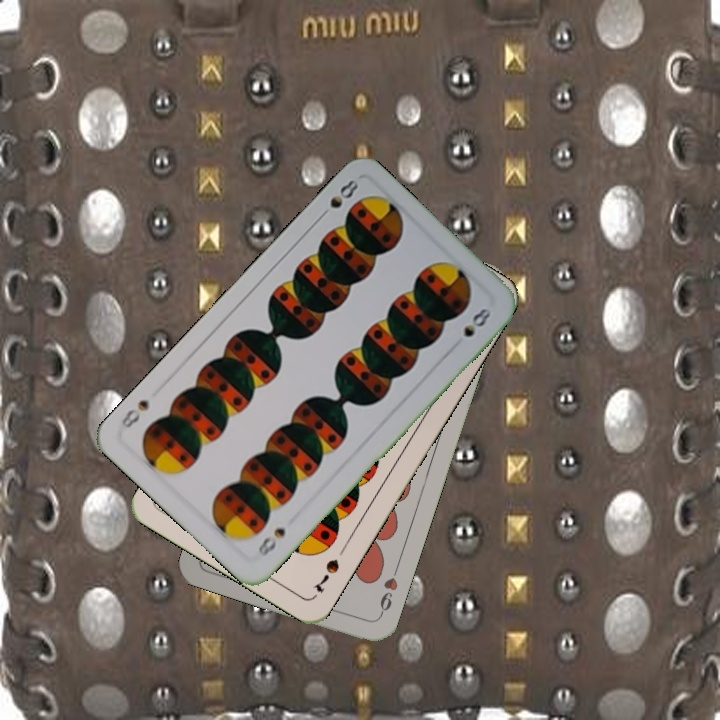H9: (374, 563, 401, 620)
S7: (309, 554, 342, 596)
S8: (314, 172, 362, 222), (253, 523, 289, 560)
